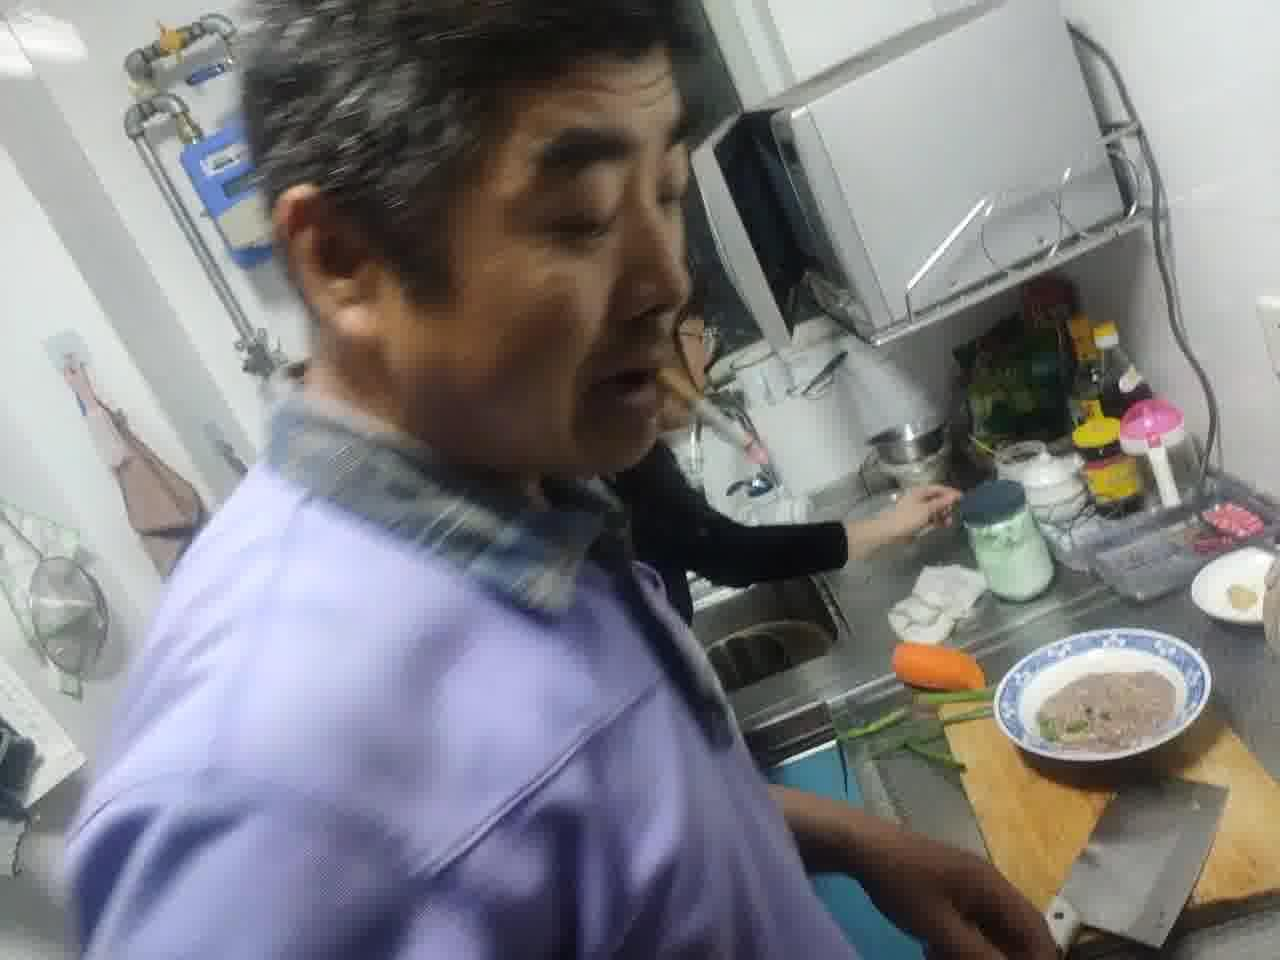smoke: (653, 356, 769, 467)
